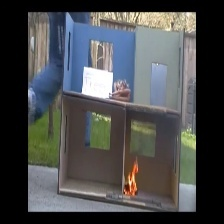fire: (123, 158, 140, 196)
